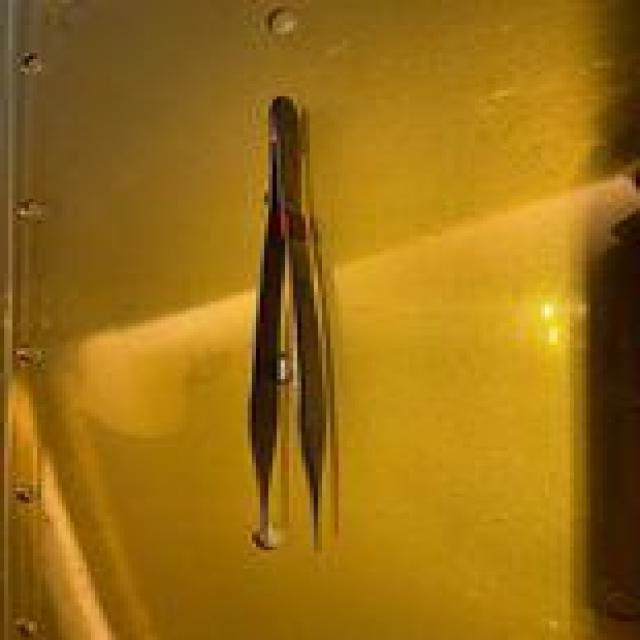Forceps: (243, 90, 334, 556)
